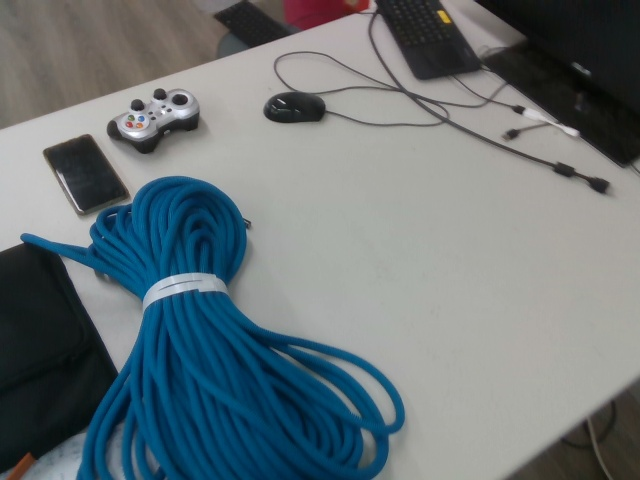rope: (17, 172, 411, 480)
